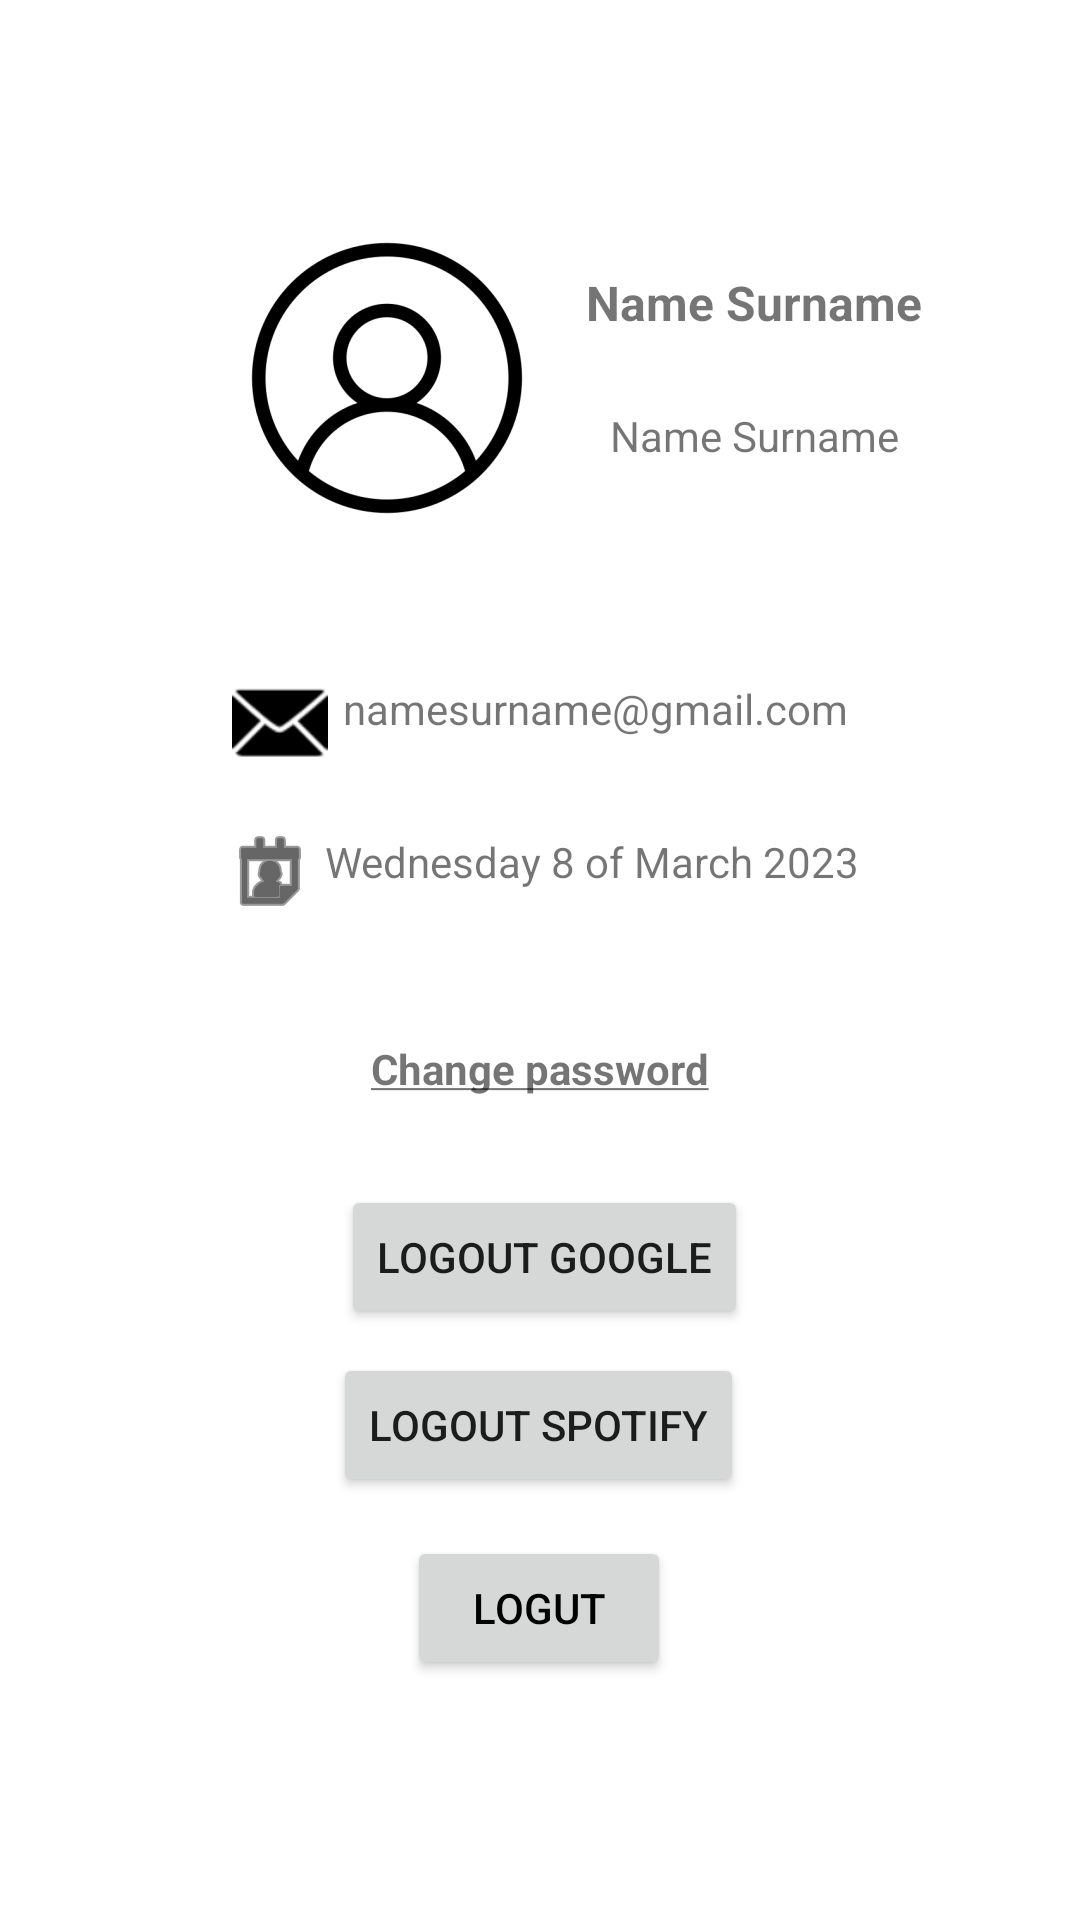

Icons on this 1080px x 1920px Android screen, each with the point to tap as (x=x, y=y):
calendar: (x=270, y=871)
email: (x=280, y=723)
profile: (x=387, y=378)
